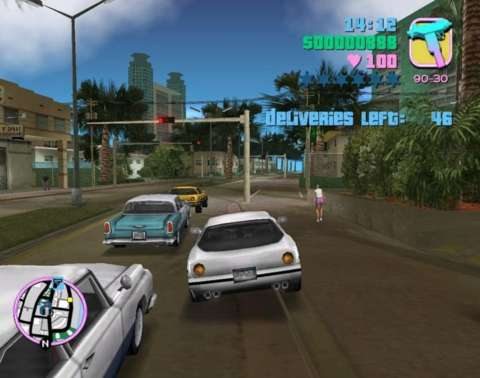car: (186, 216, 305, 297), (98, 193, 193, 255), (166, 184, 207, 217)
person: (312, 179, 330, 225)
